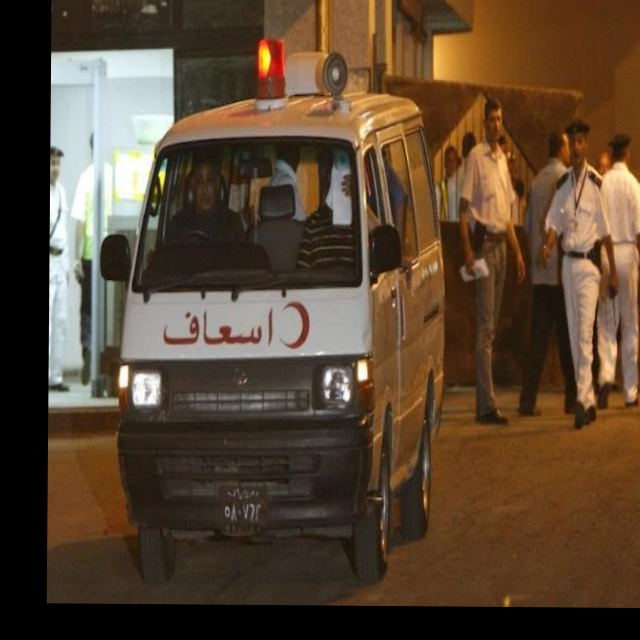Ambulance: (97, 36, 450, 588)
person: (163, 148, 253, 246), (49, 145, 72, 391)
